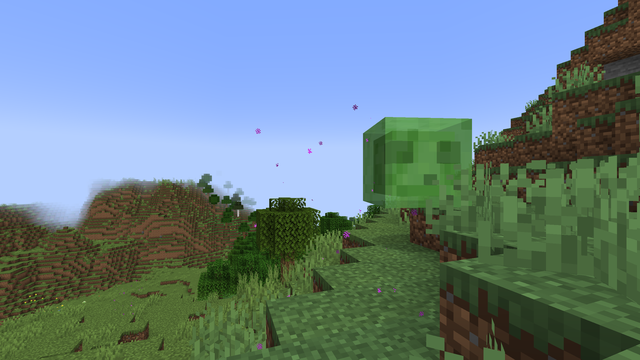slimes: (355, 110, 474, 209)
